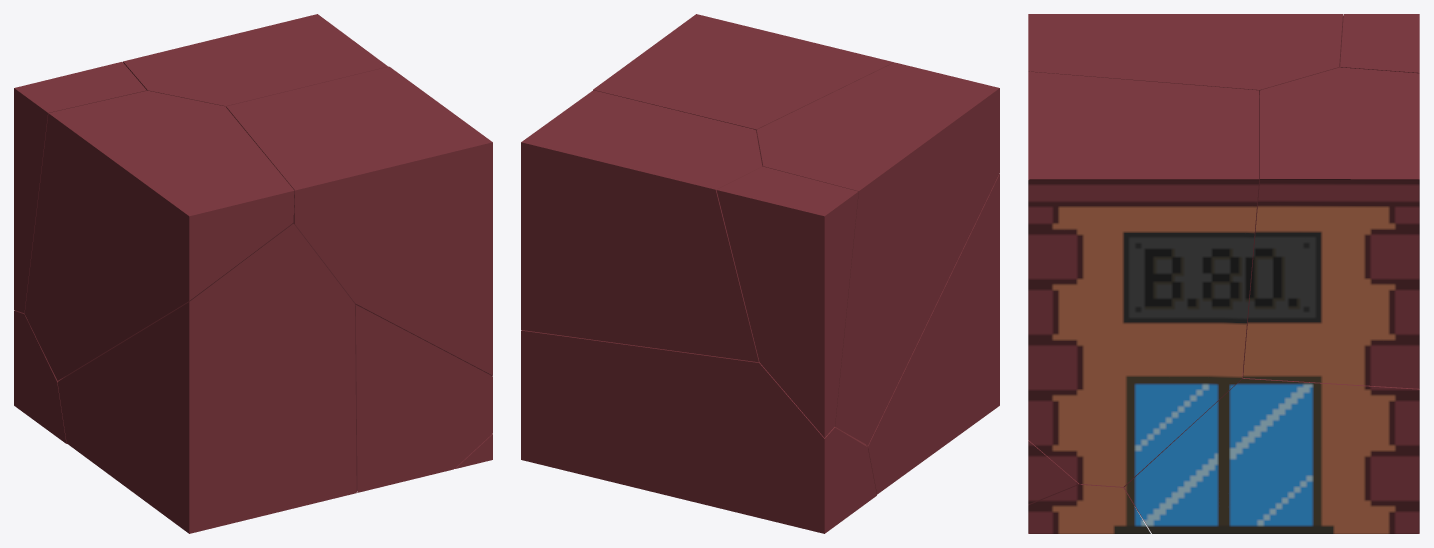
Rendered from BrickBuildingRed_2_128x128_Ground03_break.fbx.
3 renders of one model, left to right at view 1: azimuth 30°, elevation 25°; view 2: azimuth 150°, elevation 25°; view 3: azimuth 270°, elevation 25°, orthographic. The views are drawn at different scales.
Parts seen in each view (by area): view 1: Ground03Break08, Ground03Break04, Ground03Break06, Ground03Break07, Ground03Break01, Ground03Break02, Ground03Break03; view 2: Ground03Break01, Ground03Break03, Ground03Break04, Ground03Break02, Ground03Break08, Ground03Break06; view 3: Ground03Break06, Ground03Break01, Ground03Break03, Ground03Break04, Ground03Break05, Ground03Break02, Ground03Break07.
Boxes of the visible parts, box(x1,y1,x2,y2) form: Ground03Break08: box(57, 223, 357, 533); Ground03Break04: box(24, 90, 294, 380); Ground03Break06: box(226, 66, 492, 375); Ground03Break07: box(355, 305, 492, 492); Ground03Break01: box(123, 14, 388, 106); Ground03Break02: box(14, 62, 146, 313); Ground03Break03: box(14, 310, 66, 443); Ground03Break01: box(521, 90, 762, 362); Ground03Break03: box(521, 330, 876, 533); Ground03Break04: box(756, 62, 999, 445); Ground03Break02: box(716, 166, 858, 437); Ground03Break08: box(866, 173, 999, 494); Ground03Break06: box(593, 14, 893, 138); Ground03Break06: box(1028, 71, 1259, 486); Ground03Break01: box(1243, 67, 1419, 388); Ground03Break03: box(1123, 368, 1419, 533); Ground03Break04: box(1028, 14, 1343, 97); Ground03Break05: box(1028, 484, 1150, 533); Ground03Break02: box(1340, 14, 1419, 73); Ground03Break07: box(1028, 440, 1081, 505).
Size of the model in its own units: 100 by 100 by 100.
1 material, 1 textured.
